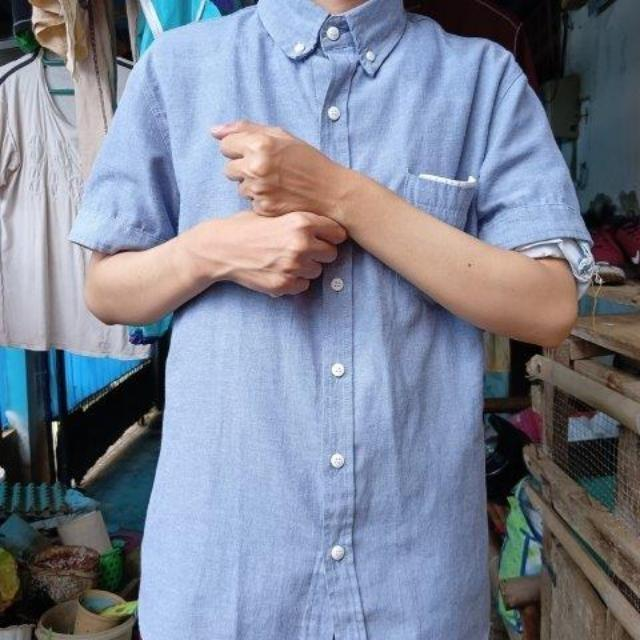G: (205, 112, 358, 303)
